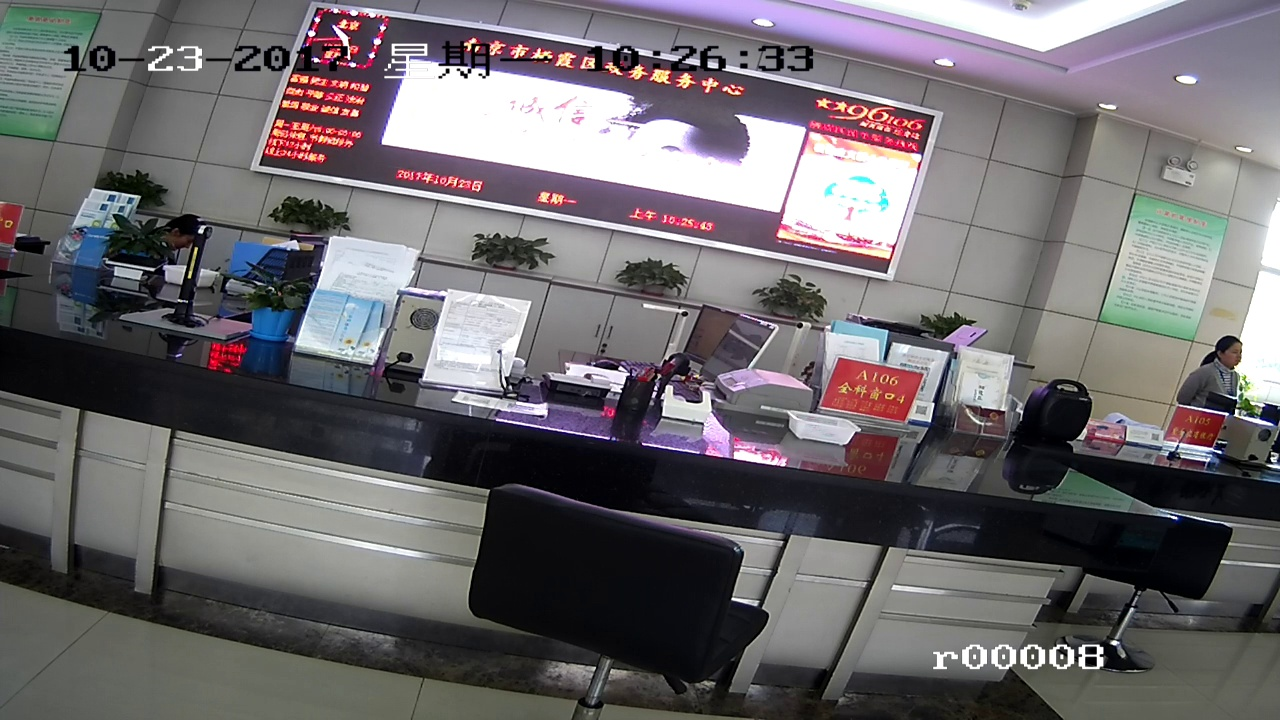billboard: (1112, 194, 1202, 332), (831, 364, 912, 424)
chair: (468, 491, 784, 695)
monitor: (283, 25, 855, 224)
person: (1205, 336, 1254, 413)
pot: (253, 185, 349, 239), (756, 273, 832, 332), (109, 159, 177, 217), (474, 223, 541, 271), (624, 255, 695, 300)
